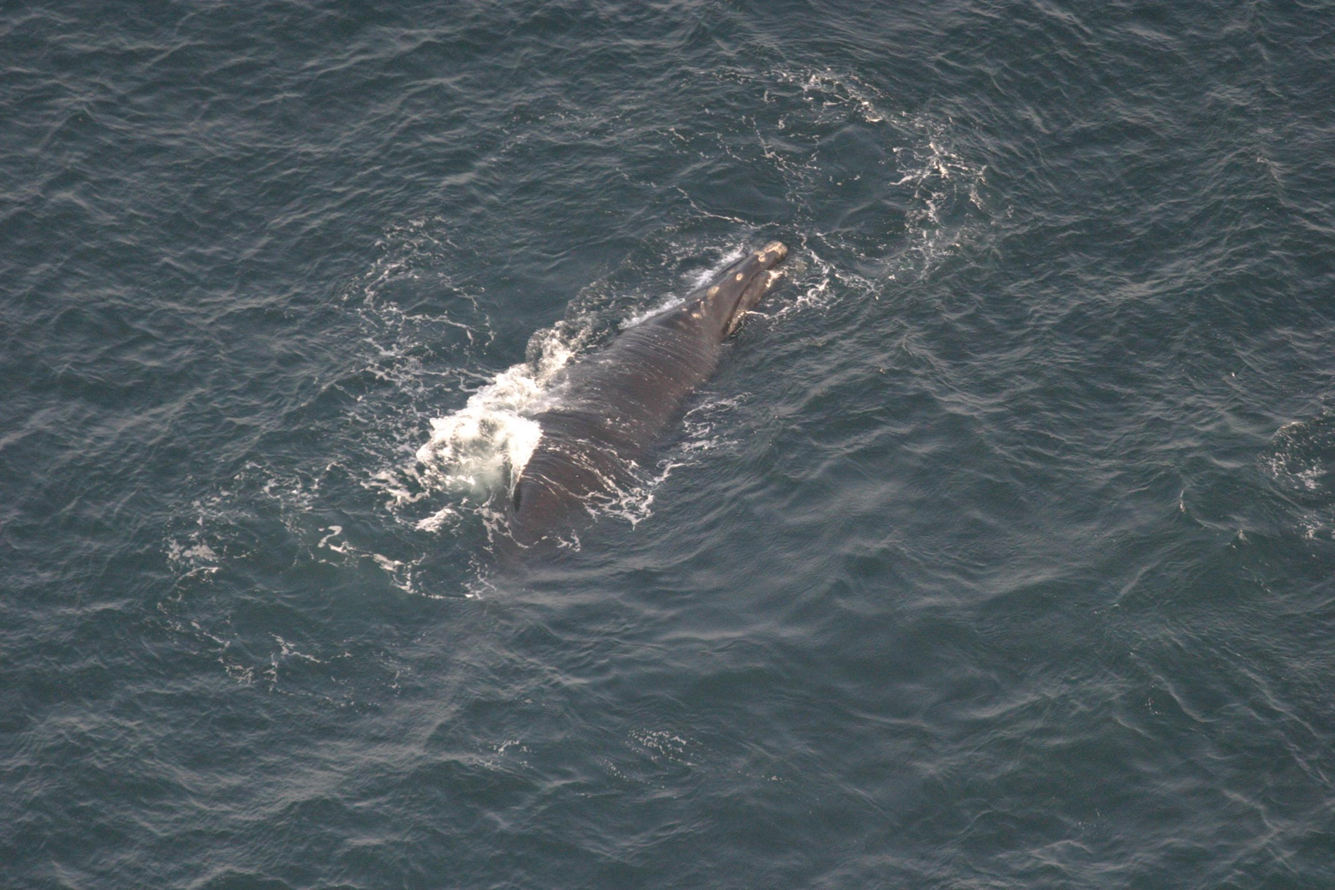whale: (300, 232, 808, 849)
